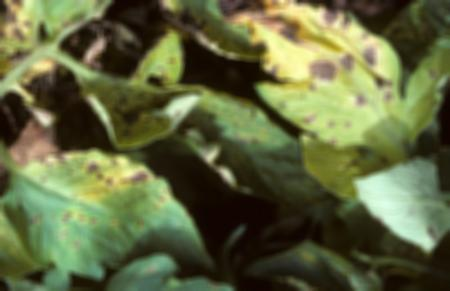Tomato Septoria leaf spot: (239, 3, 426, 173), (3, 143, 212, 277), (55, 45, 210, 153)
